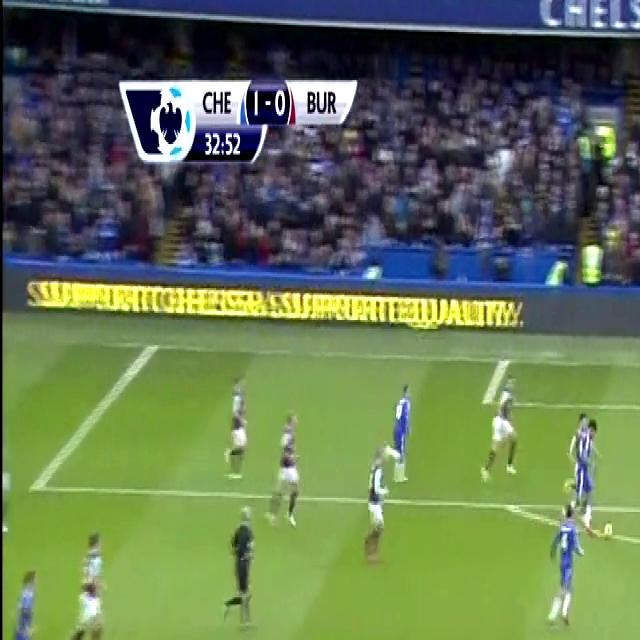referee: (222, 497, 262, 636)
soccer-player: (538, 494, 587, 637), (64, 514, 114, 640), (565, 402, 609, 544), (480, 360, 525, 495), (268, 394, 308, 538), (221, 355, 258, 482), (361, 434, 395, 570), (379, 373, 416, 490), (5, 558, 44, 640)
